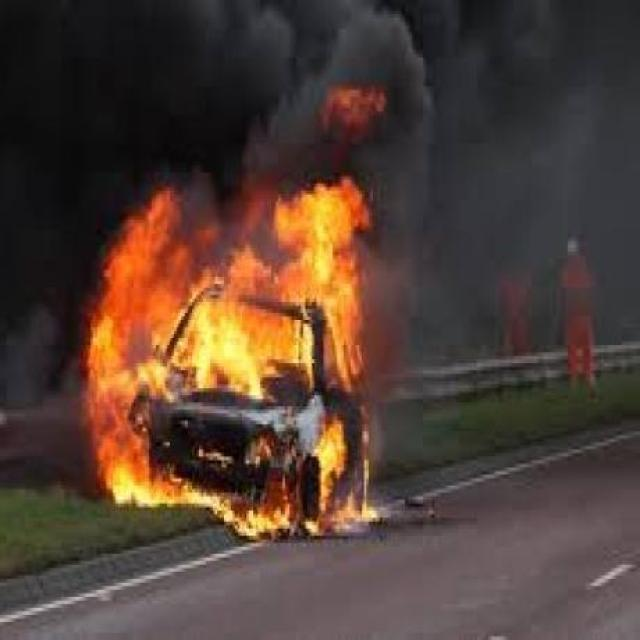Fire: (84, 188, 372, 548)
Smoke: (0, 1, 640, 188), (376, 171, 640, 379), (0, 183, 75, 450)
